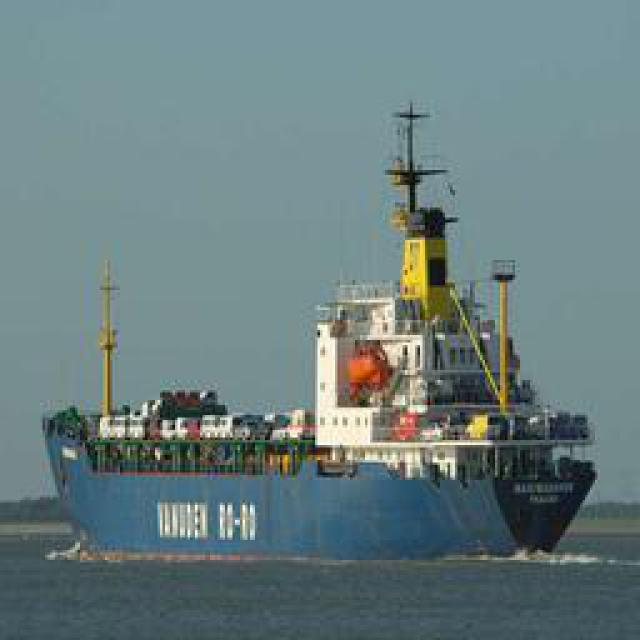Ship: (59, 89, 604, 572)
